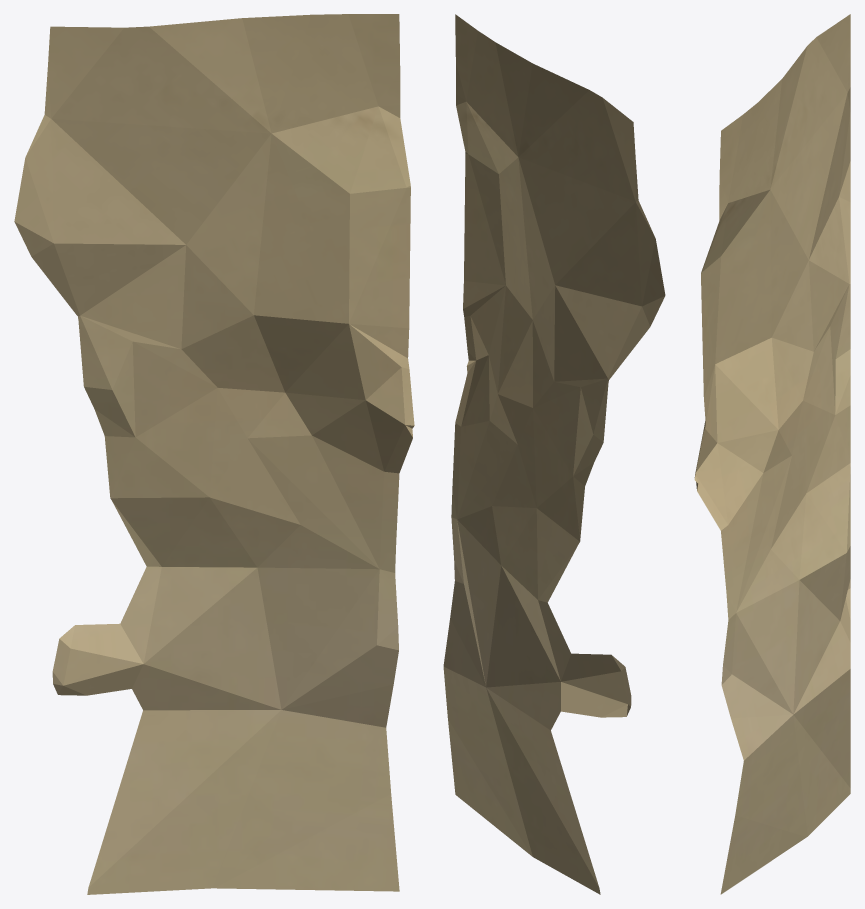
3 views of the same model, side by side, from view 1: azimuth 30°, elevation 25°; view 2: azimuth 150°, elevation 25°; view 3: azimuth 270°, elevation 25° (orthographic). The views are drawn at different scales.
Bounding box in the file's own units: 0.3103 × 0.8374 × 0.155.
Materials: 1 (1 with a texture image).
